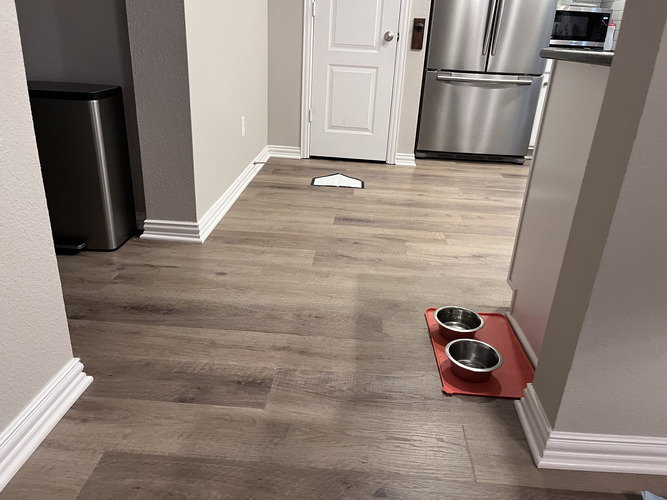homeplate: (309, 172, 364, 189)
